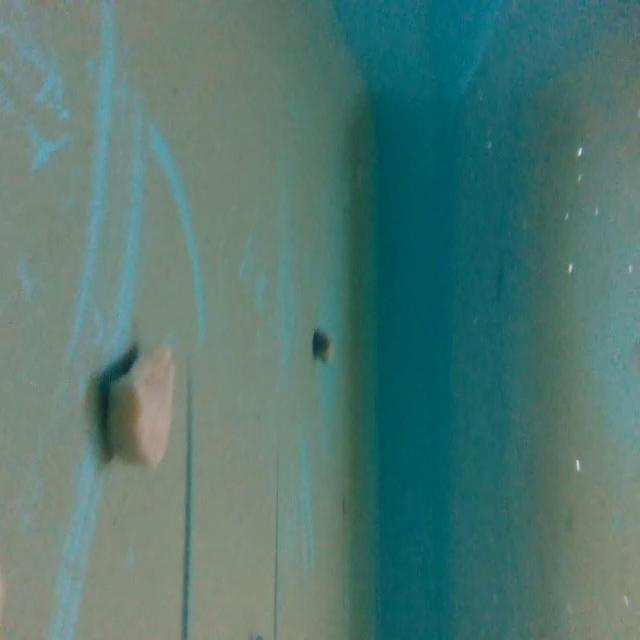rock: (108, 343, 179, 468), (309, 324, 333, 366)
